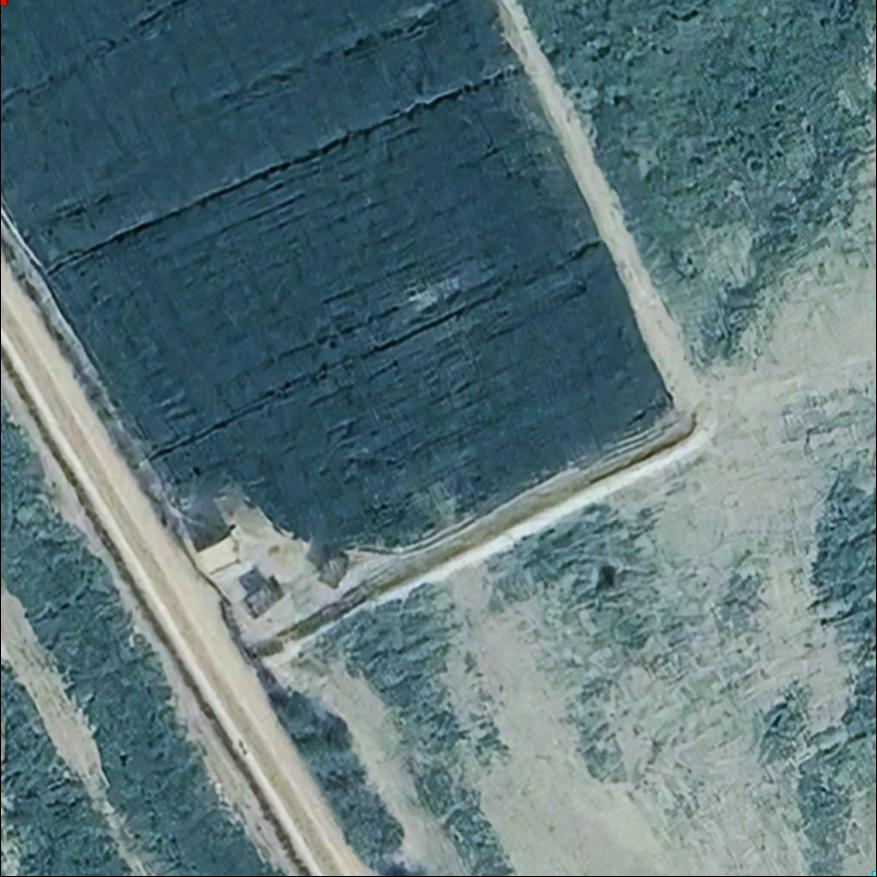Solarpanel: (239, 581, 288, 625)
